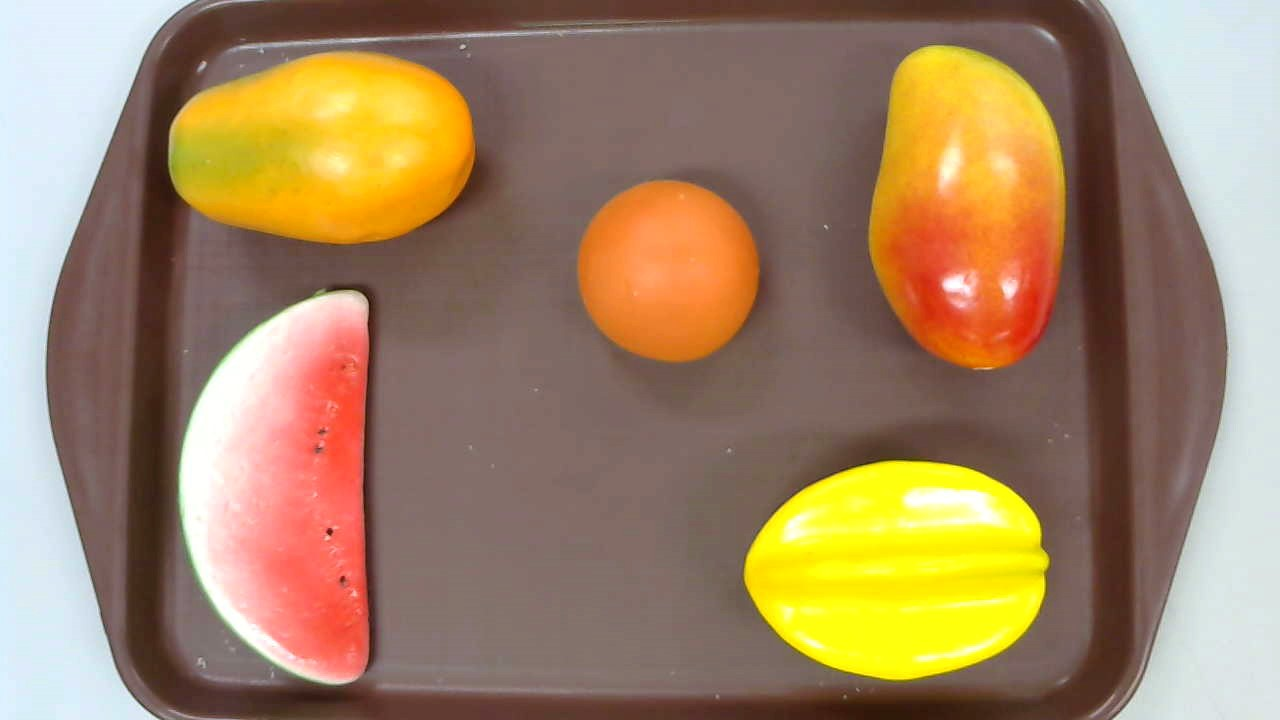bun: (577, 179, 760, 365)
papya: (166, 50, 475, 243)
red mango: (868, 45, 1066, 369)
star fruit: (742, 461, 1050, 679)
water melon: (175, 290, 371, 684)
